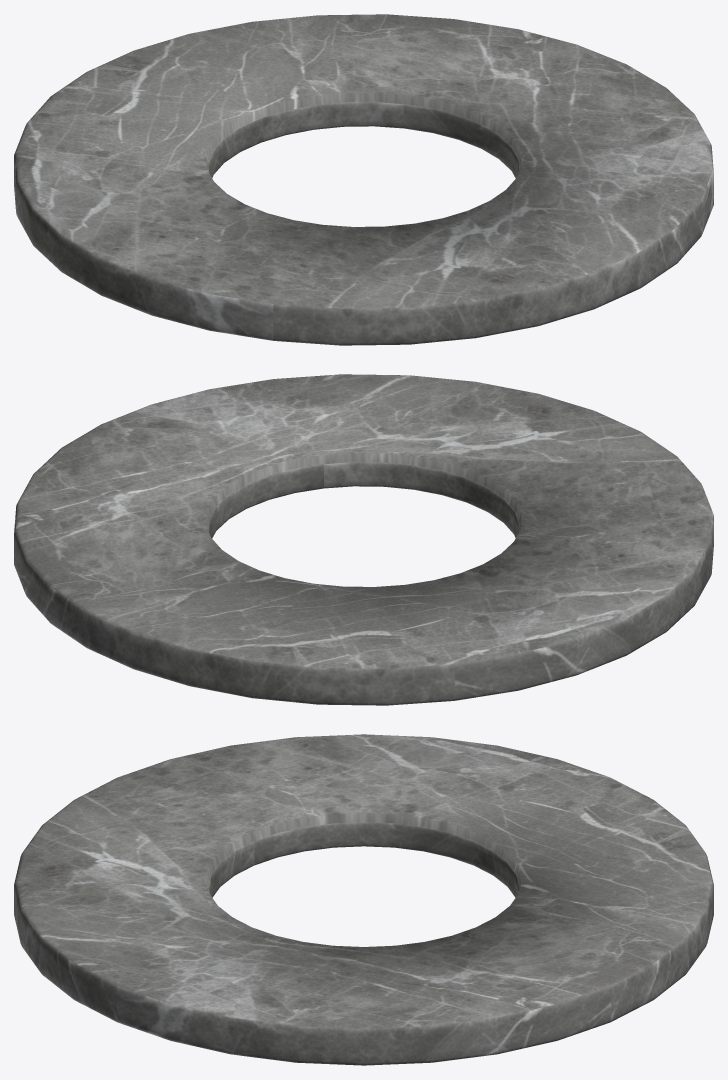
Rendered from roundedTable.fbx.
3 views of the same model, one above another, from view 1: azimuth 30°, elevation 25°; view 2: azimuth 150°, elevation 25°; view 3: azimuth 270°, elevation 25° (orthographic).
Visible parts, largest first — view 1: Cylinder; view 2: Cylinder; view 3: Cylinder.
Boxes of the visible parts, x1,y1,x2,y2 form: Cylinder: [14, 14, 713, 345]; Cylinder: [14, 374, 713, 705]; Cylinder: [14, 734, 713, 1065].
Bounding box in the file's own units: 183 × 11.4 × 183.
